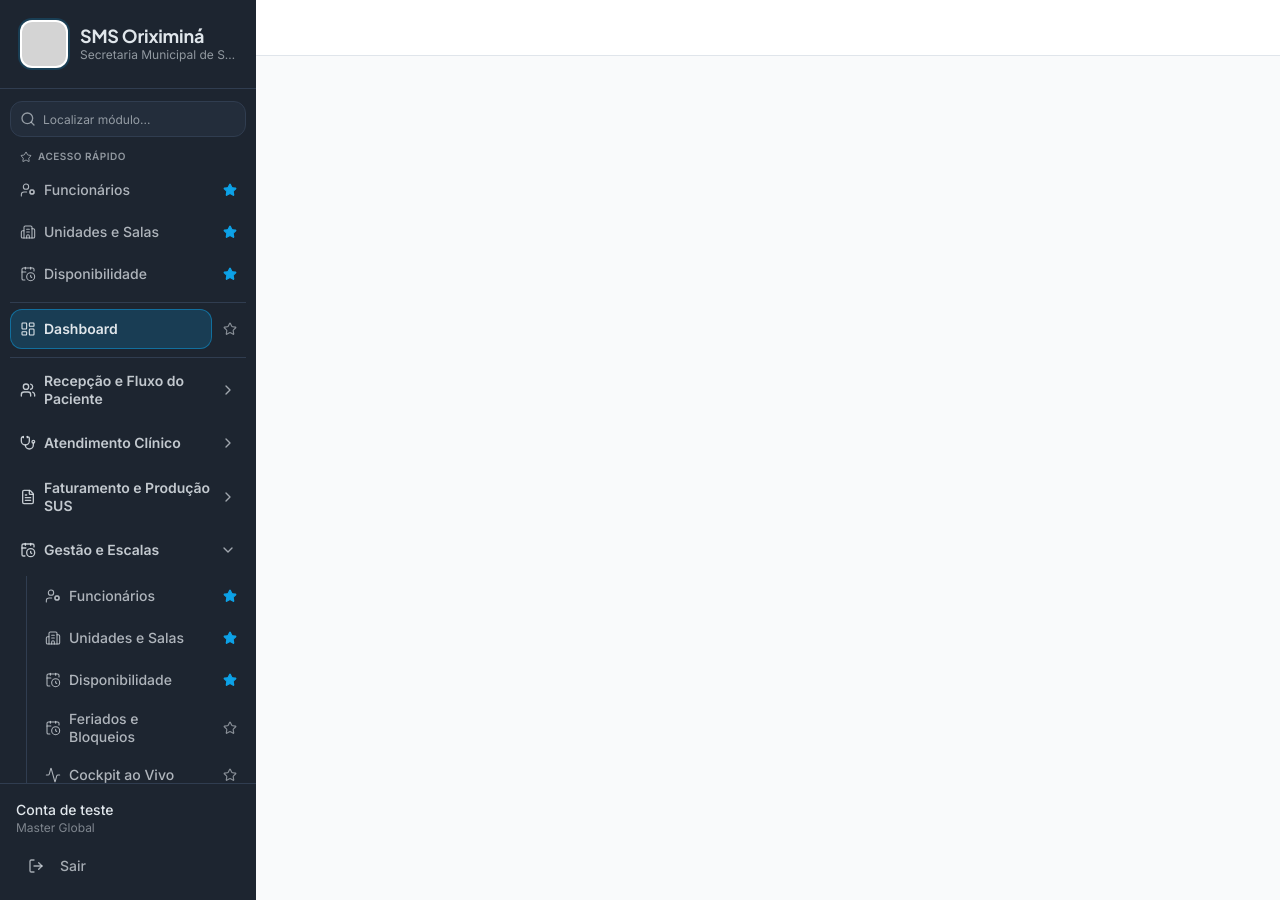
jornadas do menu lateral › abre Gestão e Escalas no Dashboard e exibe um único acesso à Disponibilidade
Expected: the text "Master Global" is shown, [16,820,95,835]
Click the 2nd link "Disponibilidade" at (108,680), box [45,671,172,688]
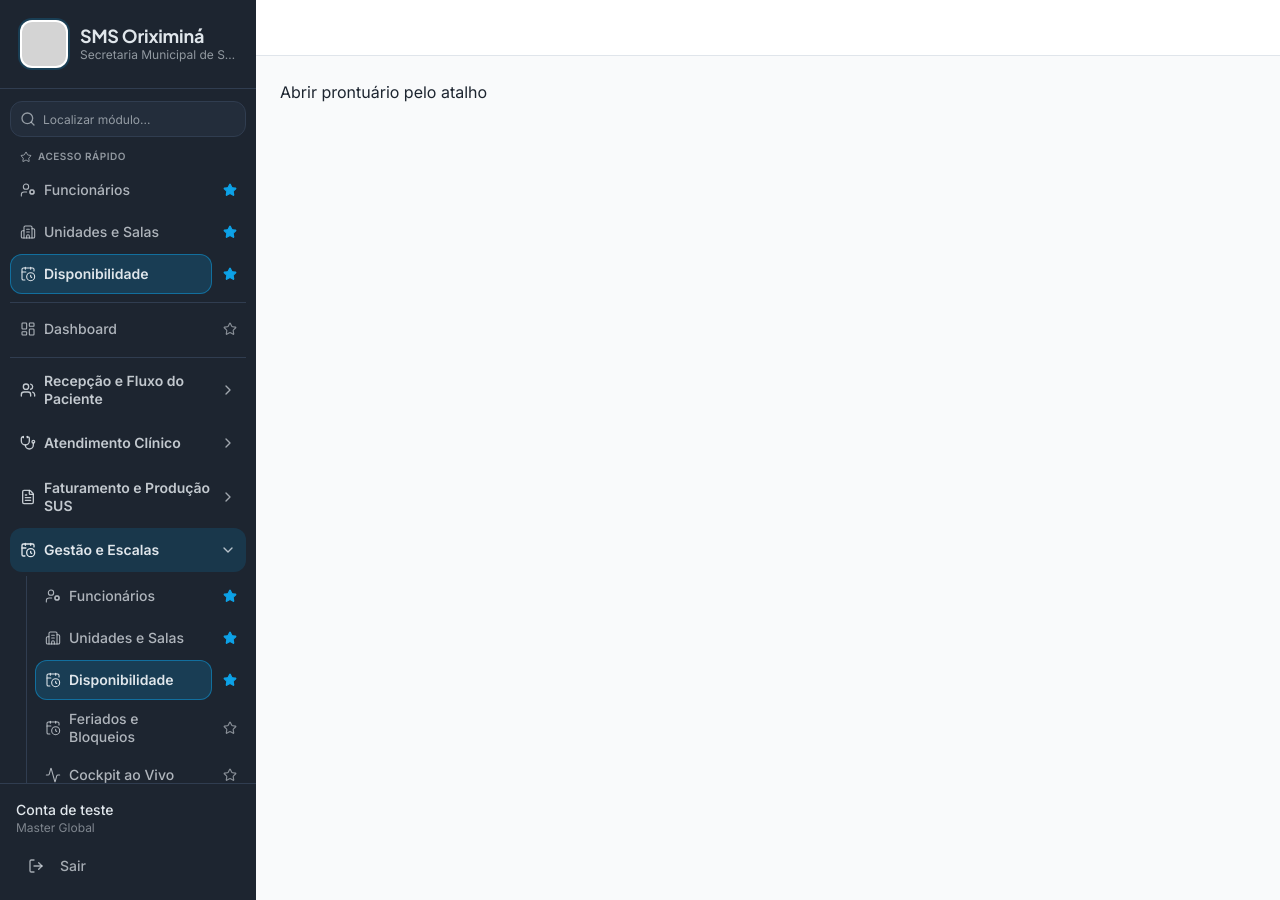
Expected: the 2nd link "Disponibilidade" is marked as current, [35,660,212,700]
